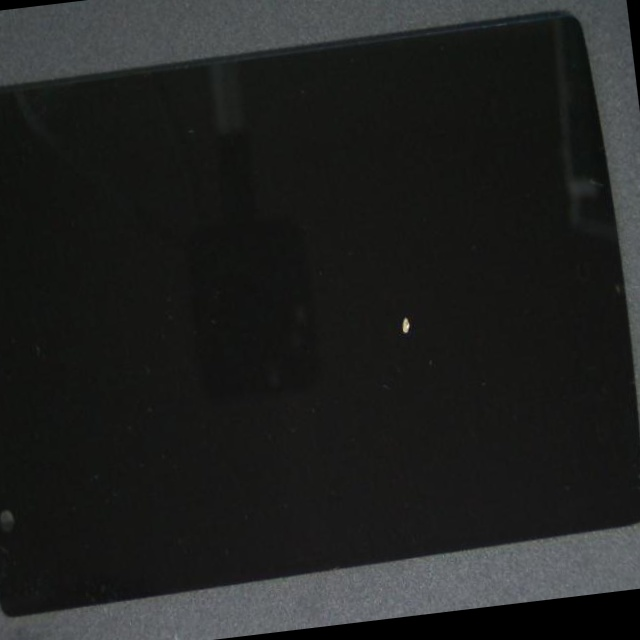stain: (155, 143, 640, 530)
